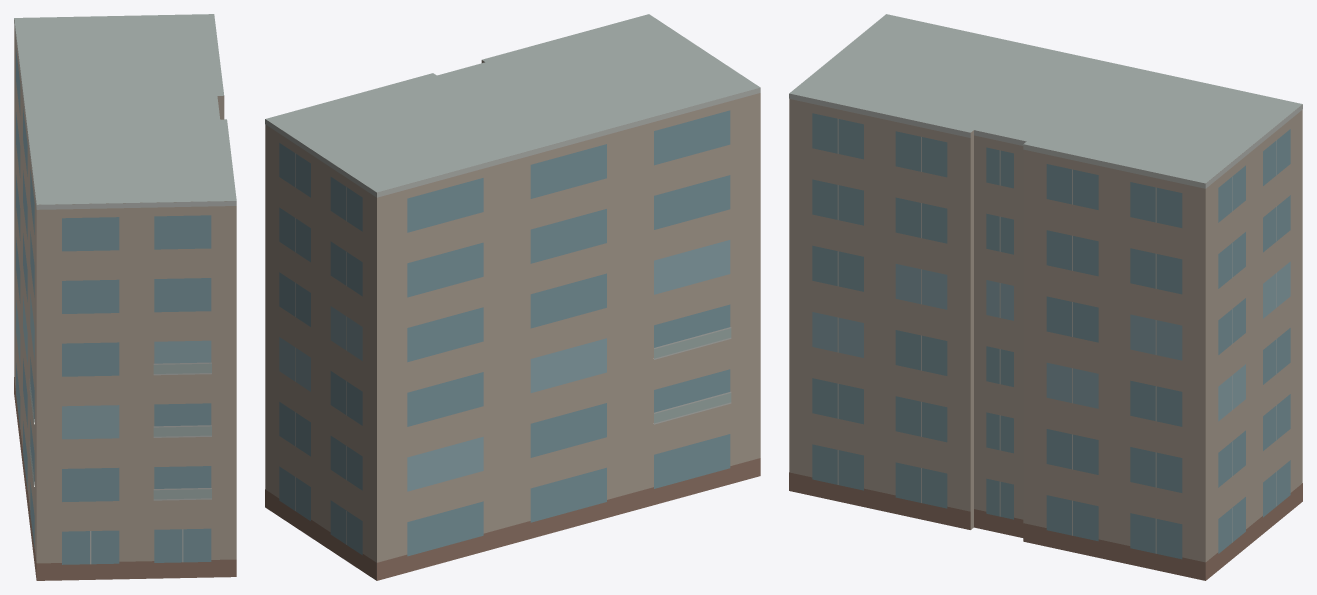
File: survey-upis-32554878.glb
3 views of the same model, side by side, from view 1: azimuth 30°, elevation 25°; view 2: azimuth 150°, elevation 25°; view 3: azimuth 270°, elevation 25° (orthographic). The views are drawn at different scales.
Visible parts, largest first — view 1: survey-upis-32554878.tmp; view 2: survey-upis-32554878.tmp; view 3: survey-upis-32554878.tmp.
Boxes of the visible parts, left/top/right/bottom form: survey-upis-32554878.tmp: left=14, top=14, right=236, bottom=580; survey-upis-32554878.tmp: left=265, top=14, right=760, bottom=580; survey-upis-32554878.tmp: left=789, top=14, right=1302, bottom=580.
Size of the model in its own units: 16.66 by 18.2 by 21.33.
